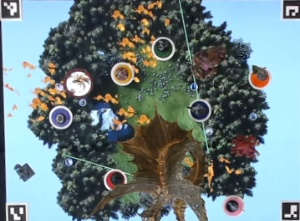blue: (186, 96, 211, 123)
green: (151, 34, 175, 60)
orange: (246, 65, 274, 89)
pink: (223, 192, 247, 216)
red: (103, 168, 127, 192)
violet: (46, 103, 74, 131)
yellow: (108, 58, 135, 86)
